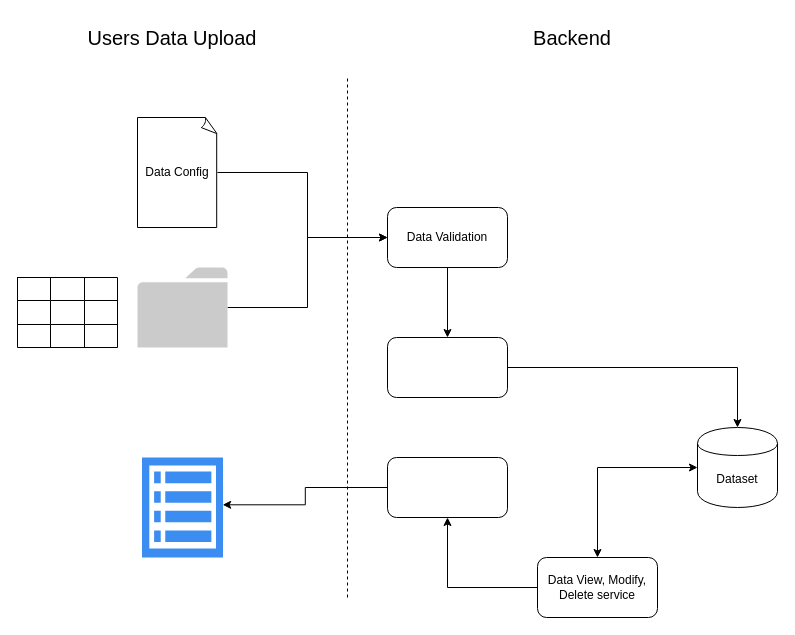
Image size: 795x635. Some labels were removed from this diagram. Each missing label, with the centre of its shape:
"Data Cleaning" belongs at (447,367).
"Role based Access Control (RBAC)" belongs at (447,487).
